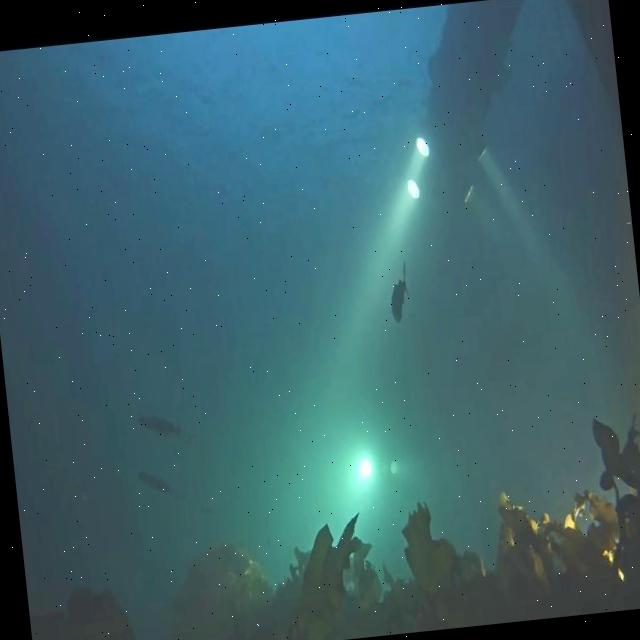fish: (386, 258, 412, 320), (138, 413, 182, 440), (138, 471, 172, 500)
